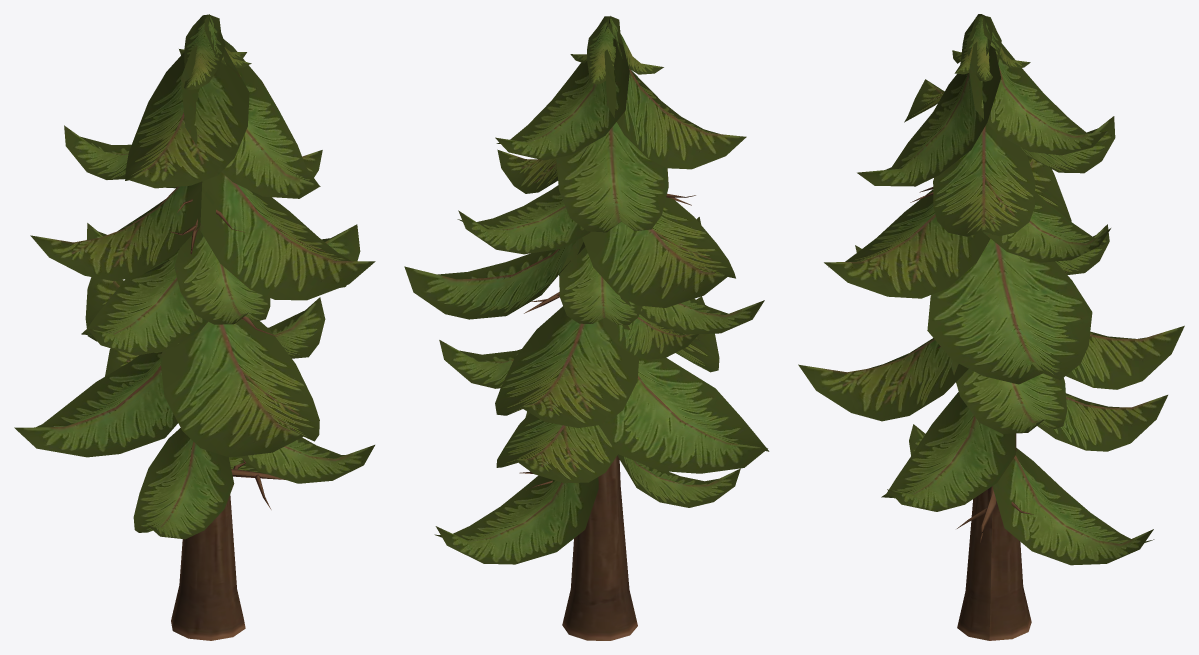
File: Cypress.glb
The picture shows the model from 3 angles, left to right: view 1: azimuth 30°, elevation 25°; view 2: azimuth 150°, elevation 25°; view 3: azimuth 270°, elevation 25°; orthographic projection.
Parts seen in each view (by area): view 1: Obj3d66-16544970-2-761; view 2: Obj3d66-16544970-2-761; view 3: Obj3d66-16544970-2-761.
Part boxes in pixels (left/top/right/bottom): Obj3d66-16544970-2-761: left=14, top=14, right=375, bottom=640; Obj3d66-16544970-2-761: left=404, top=16, right=769, bottom=640; Obj3d66-16544970-2-761: left=798, top=14, right=1184, bottom=640.
Size of the model in its own units: 0.6043 by 0.9998 by 0.5762.
Materials: 1 (1 with a texture image).
